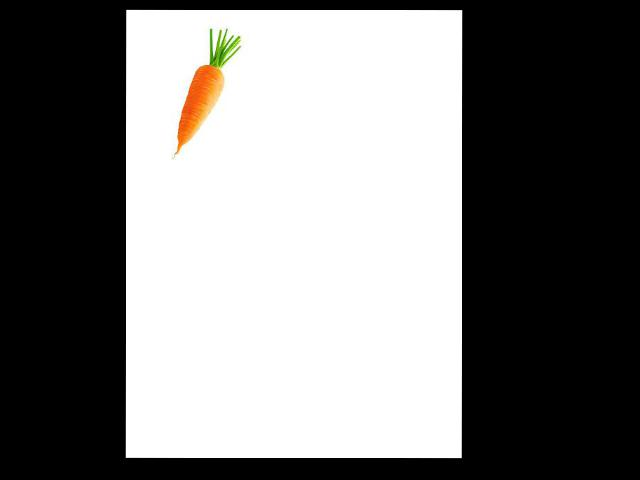carrot: (171, 60, 225, 152)
